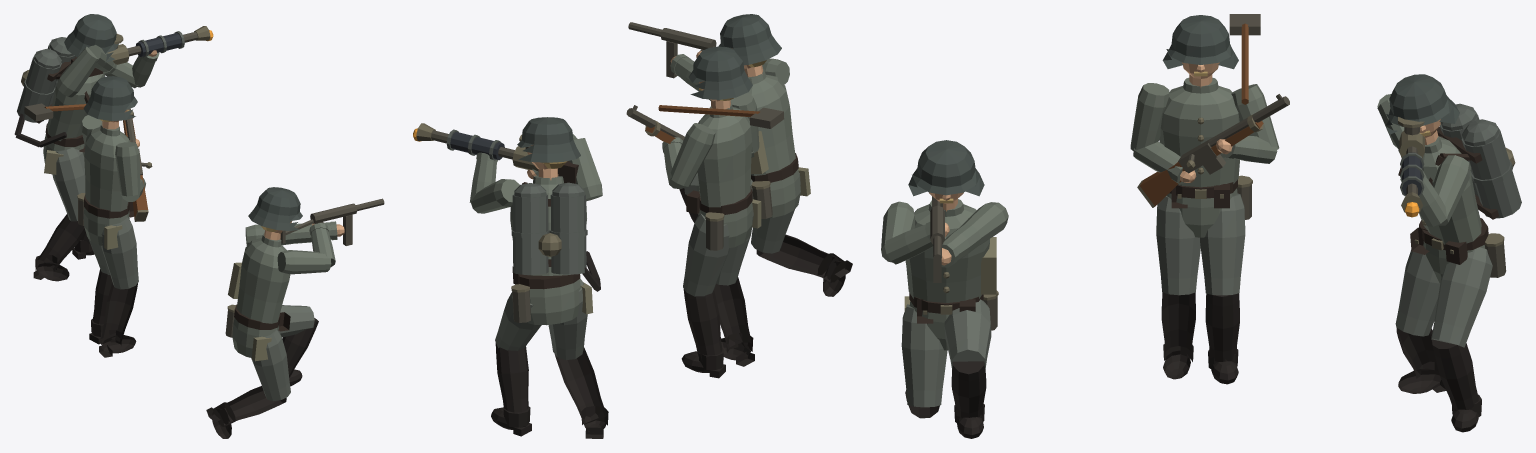
The model's file is de_pioneers.obj.
The picture shows the model from 3 angles, left to right: view 1: azimuth 30°, elevation 25°; view 2: azimuth 150°, elevation 25°; view 3: azimuth 270°, elevation 25°; orthographic projection. The views are drawn at different scales.
Size of the model in its own units: 1.8 by 2 by 3.02.
